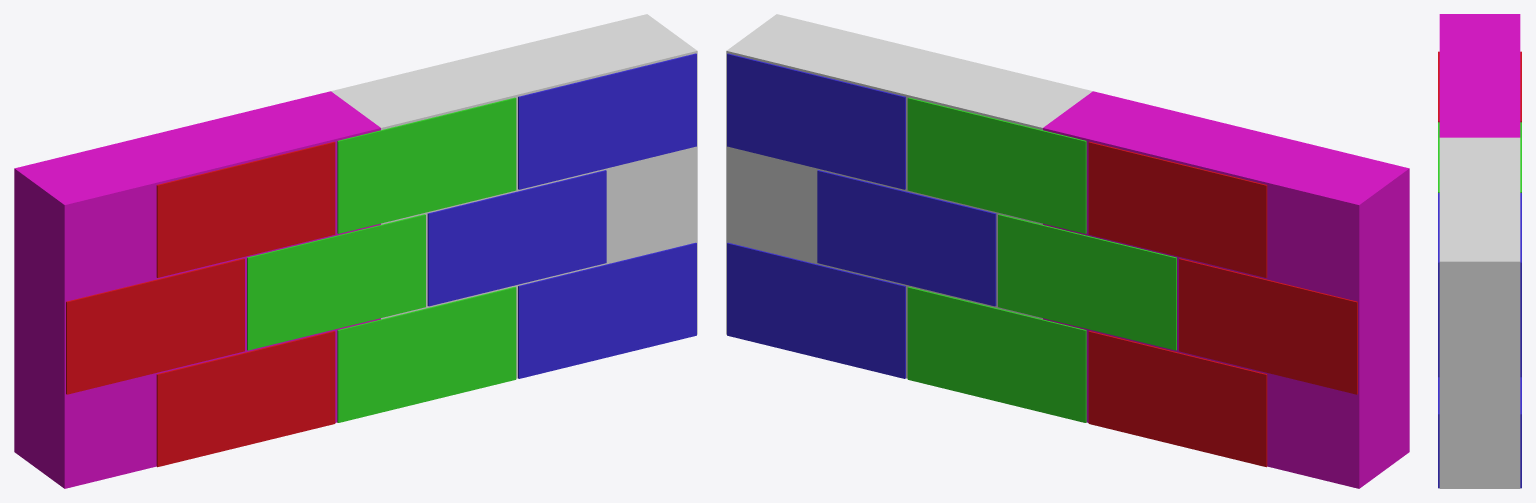
File: brickwall-2.fbx
3 views of the same model, side by side, from view 1: azimuth 30°, elevation 25°; view 2: azimuth 150°, elevation 25°; view 3: azimuth 270°, elevation 25° (orthographic). The views are drawn at different scales.
Parts seen in each view (by area): view 1: Cube.009, Cube, Cube.007, Cube.001, Cube.005, Cube.006, Cube.004, Cube.008, Cube.003, Cube.002; view 2: Cube.009, Cube, Cube.007, Cube.001, Cube.005, Cube.006, Cube.004, Cube.008, Cube.003, Cube.002; view 3: Cube.009, Cube.008, Cube.002, Cube.006, Cube.007, Cube.005.
Part boxes in pixels (x1,y1,x2,y2): Cube.009: (14, 14, 697, 488); Cube: (156, 331, 335, 467); Cube.007: (337, 97, 516, 233); Cube.001: (337, 287, 516, 422); Cube.005: (427, 170, 606, 306); Cube.006: (156, 141, 335, 277); Cube.004: (247, 214, 425, 350); Cube.008: (518, 53, 696, 189); Cube.003: (66, 258, 244, 394); Cube.002: (518, 242, 696, 378); Cube.009: (726, 14, 1409, 488); Cube: (1088, 331, 1267, 467); Cube.007: (907, 97, 1086, 233); Cube.001: (907, 287, 1086, 422); Cube.005: (817, 170, 996, 306); Cube.006: (1088, 141, 1267, 277); Cube.004: (998, 214, 1176, 350); Cube.008: (727, 53, 905, 189); Cube.003: (1179, 258, 1357, 394); Cube.002: (727, 242, 905, 378); Cube.009: (1439, 14, 1520, 488); Cube.008: (1438, 193, 1521, 336); Cube.002: (1438, 377, 1521, 488); Cube.006: (1438, 51, 1521, 122); Cube.007: (1438, 122, 1521, 192); Cube.005: (1438, 336, 1521, 377).
Size of the model in its own units: 7 by 3 by 1.
